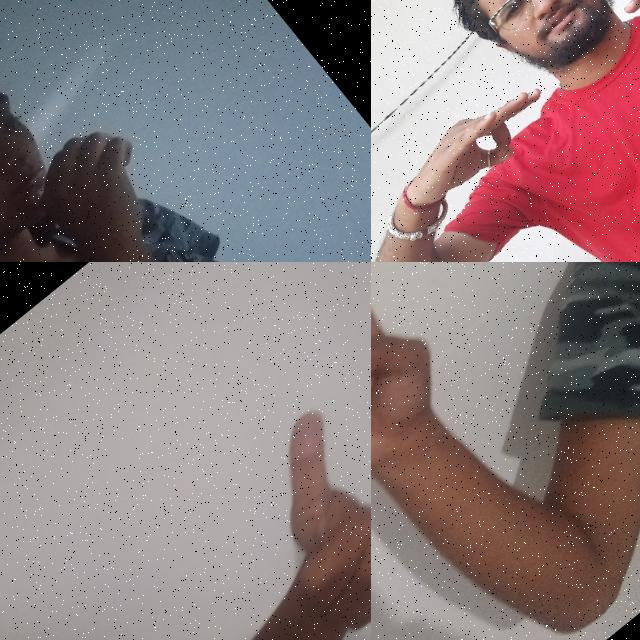Corna: (371, 262, 507, 567)
Fist Mouth: (0, 0, 208, 262)
Okay: (371, 55, 573, 245)
Thumbs Up: (209, 392, 371, 640)
